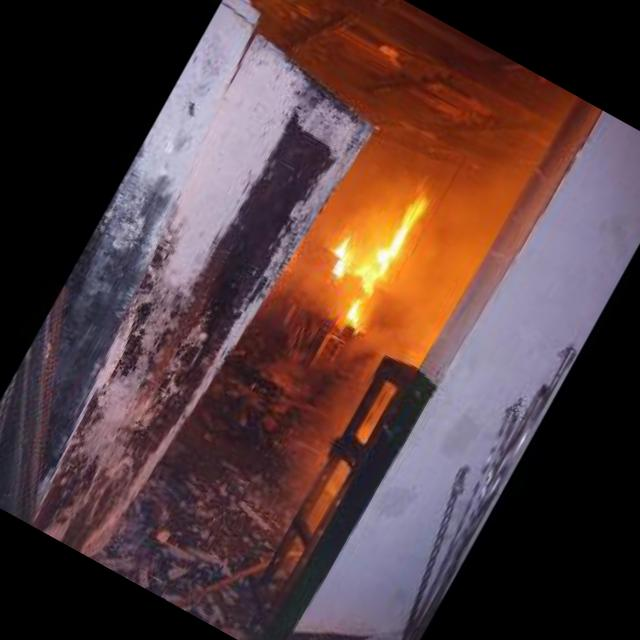fire: (349, 164, 448, 300), (326, 234, 367, 281), (344, 298, 370, 326)
